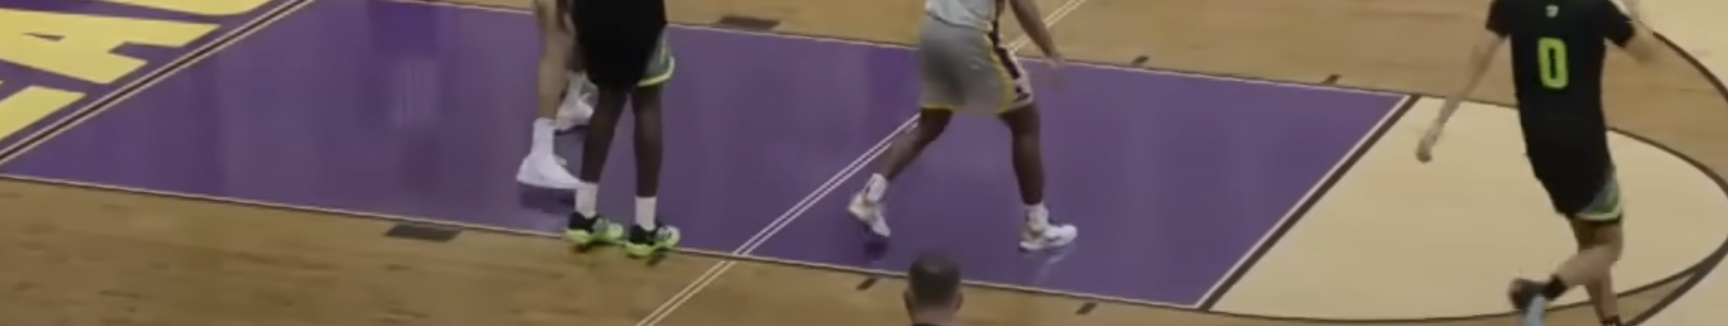endLine: (3, 1, 298, 157)
freeThrow: (1203, 91, 1419, 311)
lane: (3, 177, 1199, 311), (395, 1, 1423, 93)
